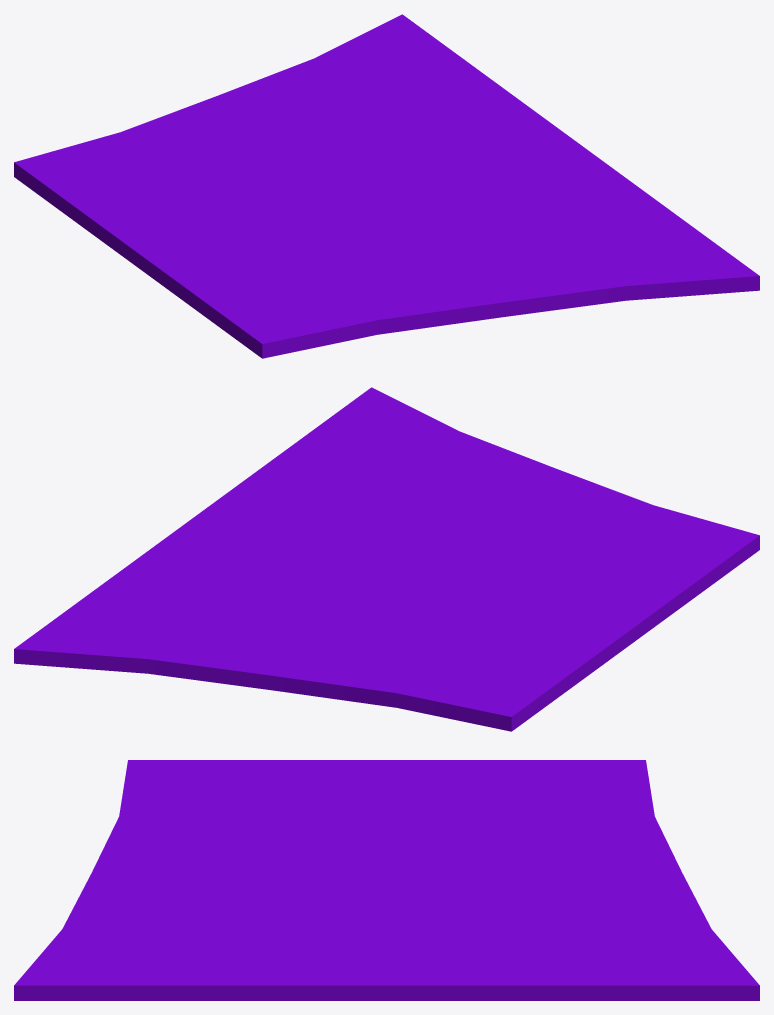
Rendered from RampN_A.fbx.
The picture shows the model from 3 angles, top to bottom: view 1: azimuth 30°, elevation 25°; view 2: azimuth 150°, elevation 25°; view 3: azimuth 270°, elevation 25°; orthographic projection. The views are drawn at different scales.
Parts seen in each view (by area): view 1: RampN_A; view 2: RampN_A; view 3: RampN_A.
Boxes of the visible parts, x1,y1,x2,y2 form: RampN_A: (14, 14, 759, 358); RampN_A: (14, 387, 759, 731); RampN_A: (14, 760, 759, 1000).
Bounding box in the file's own units: 6.07 × 0.1914 × 8.48.
